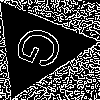G: (12, 22, 75, 76)
